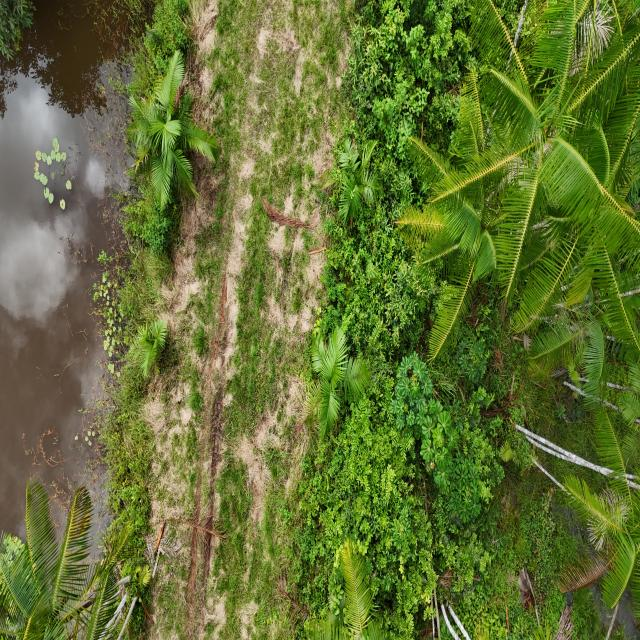vegetation: (124, 48, 218, 212)
